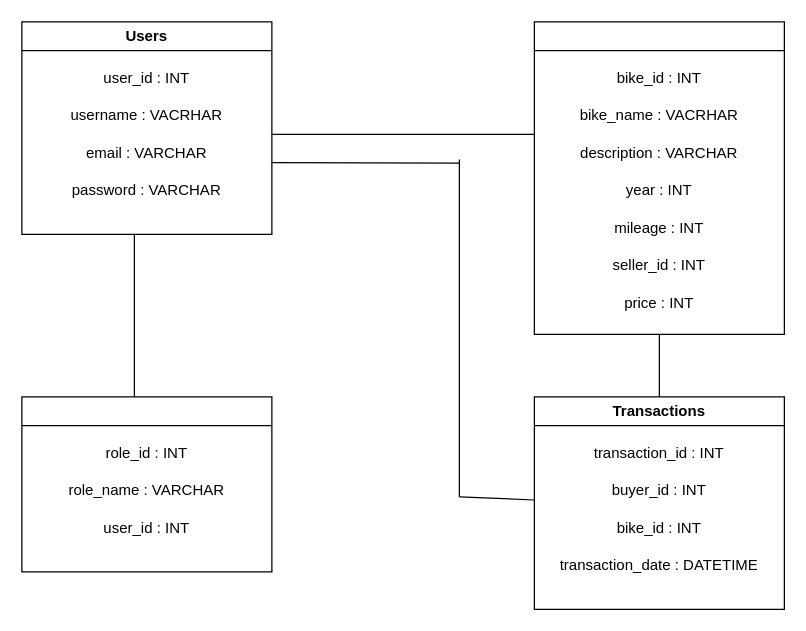
Image size: 806x631. Some labels were removed from this diagram. The box of each missing label's shape, as (x1, y1, x2, y2) in pixels:
Bikes: (533, 21, 784, 334)
Roles: (21, 396, 272, 572)
